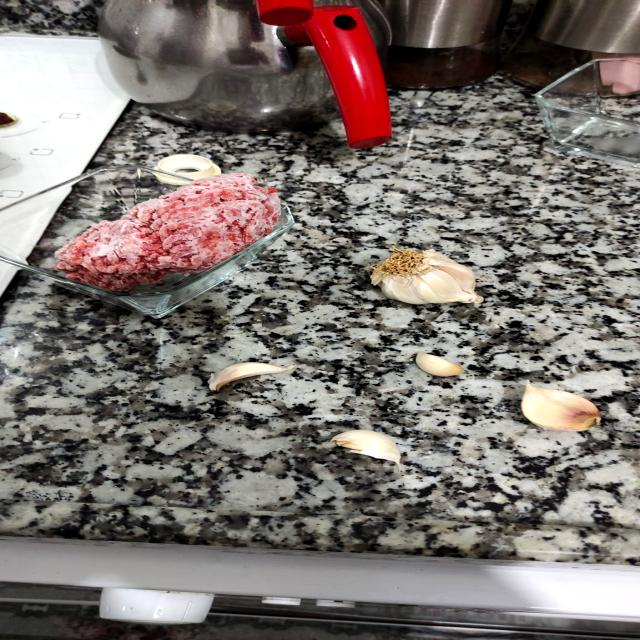garlic: (355, 235, 513, 312), (505, 372, 618, 442), (316, 422, 429, 468), (194, 350, 309, 395), (392, 342, 483, 381)
ground meat: (34, 162, 316, 300)
